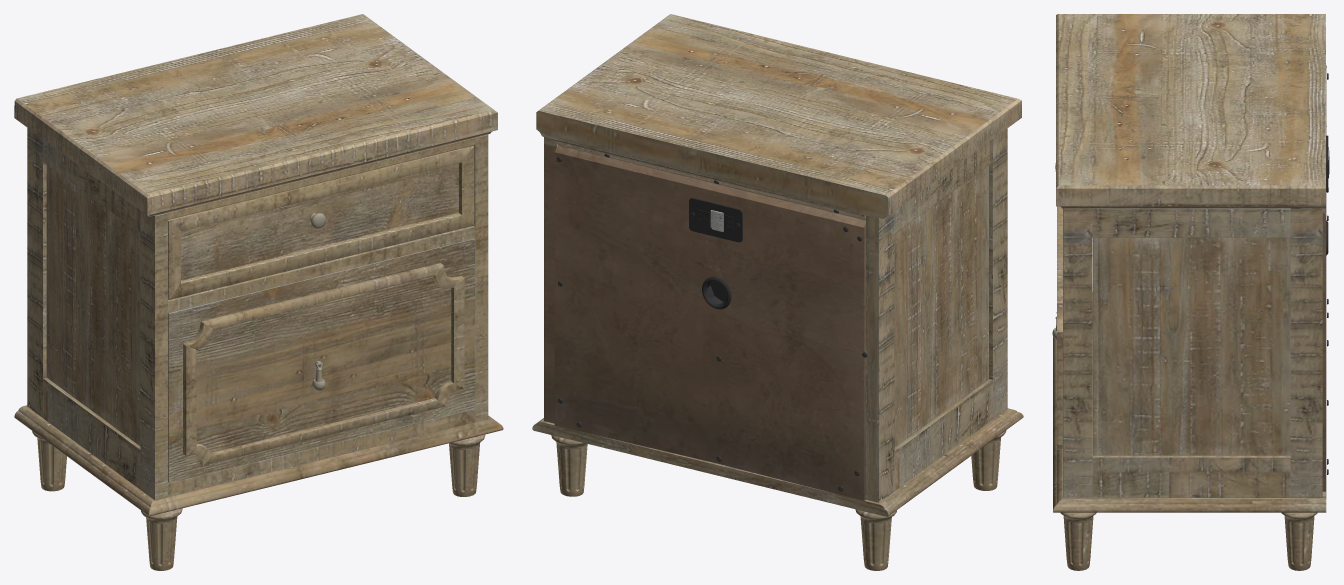
File: abo-B07FM3CDYS.glb
3 renders of one model, left to right at view 1: azimuth 30°, elevation 25°; view 2: azimuth 150°, elevation 25°; view 3: azimuth 270°, elevation 25°, orthographic.
Size of the model in its own units: 0.686 by 0.711 by 0.457.
Materials: 1 (1 with a texture image).
